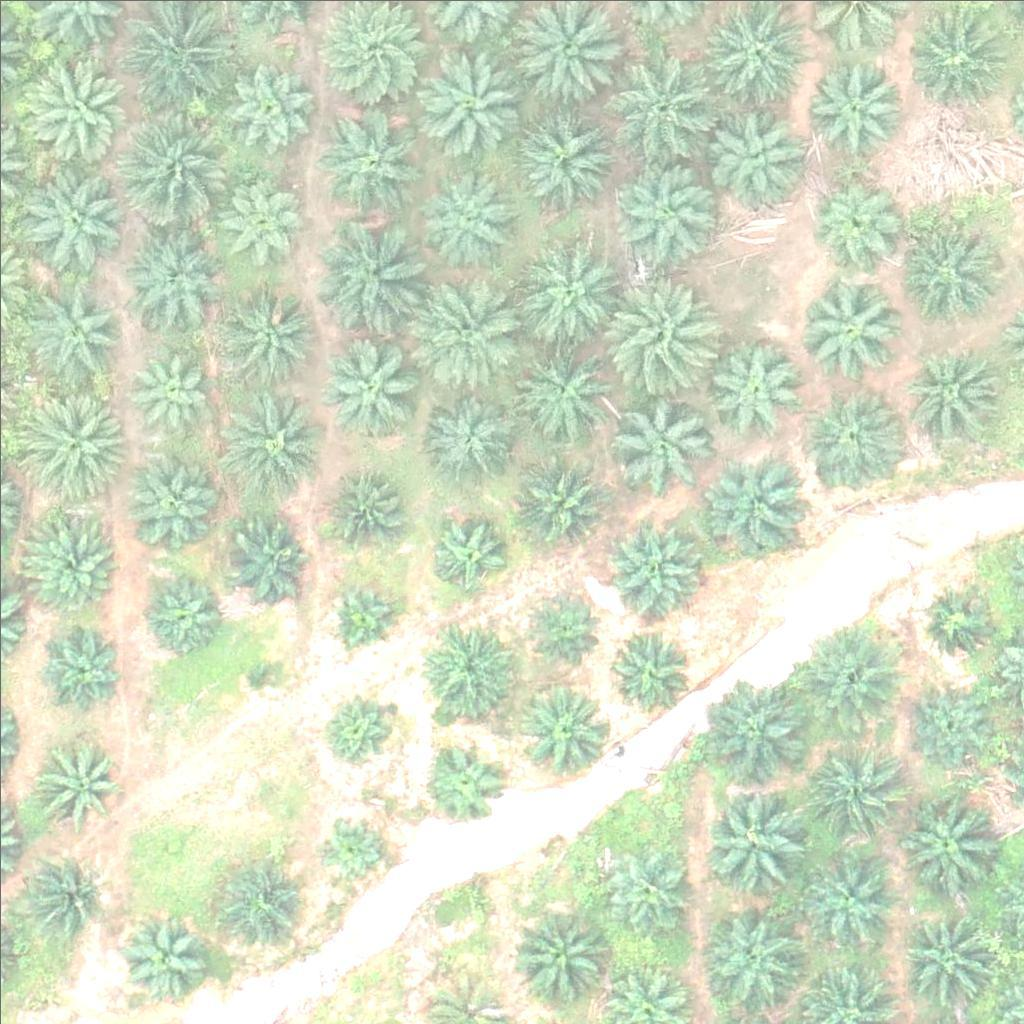Kelapa_Sawit: (697, 903, 810, 1017), (413, 276, 526, 390), (893, 793, 1006, 906), (794, 613, 907, 726), (705, 792, 818, 905), (414, 42, 527, 155), (121, 115, 233, 229), (317, 220, 429, 334), (801, 732, 913, 845), (702, 669, 814, 782), (14, 386, 126, 499), (605, 48, 717, 161), (611, 158, 723, 271), (604, 278, 716, 391), (901, 910, 1001, 1011), (422, 611, 522, 712), (20, 512, 120, 613), (119, 444, 219, 545), (321, 331, 421, 432), (609, 394, 709, 495), (711, 455, 811, 556), (803, 390, 903, 491), (903, 341, 1003, 442), (22, 277, 122, 378), (24, 158, 124, 259), (124, 220, 224, 321), (420, 170, 520, 271), (521, 240, 621, 341), (517, 107, 617, 208), (706, 103, 806, 204), (801, 55, 901, 156), (798, 280, 898, 381), (902, 220, 1002, 321), (802, 853, 902, 953), (514, 910, 614, 1010), (210, 847, 310, 947), (221, 390, 321, 490), (606, 509, 706, 609), (707, 340, 807, 440), (22, 51, 122, 151), (214, 60, 314, 160), (218, 286, 318, 386), (323, 109, 423, 209), (418, 389, 518, 489), (511, 334, 611, 434), (907, 2, 1007, 102), (910, 578, 998, 666), (601, 847, 689, 935), (35, 624, 123, 712), (128, 337, 216, 425), (222, 519, 310, 607), (214, 177, 302, 265), (30, 739, 117, 828), (905, 682, 992, 770), (17, 849, 104, 937), (124, 919, 211, 1007), (418, 736, 505, 824), (519, 456, 606, 544), (323, 455, 410, 543), (139, 578, 226, 666), (524, 687, 611, 775), (606, 624, 693, 712), (811, 181, 898, 269), (433, 514, 508, 590), (327, 574, 402, 650), (321, 691, 396, 767), (310, 811, 385, 887), (523, 584, 598, 659), (235, 656, 285, 706)
